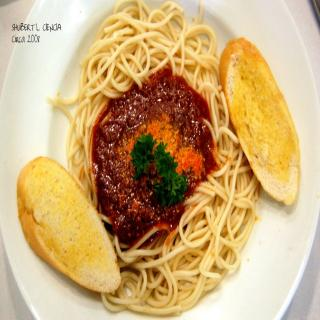Pasta: (49, 0, 259, 317)
